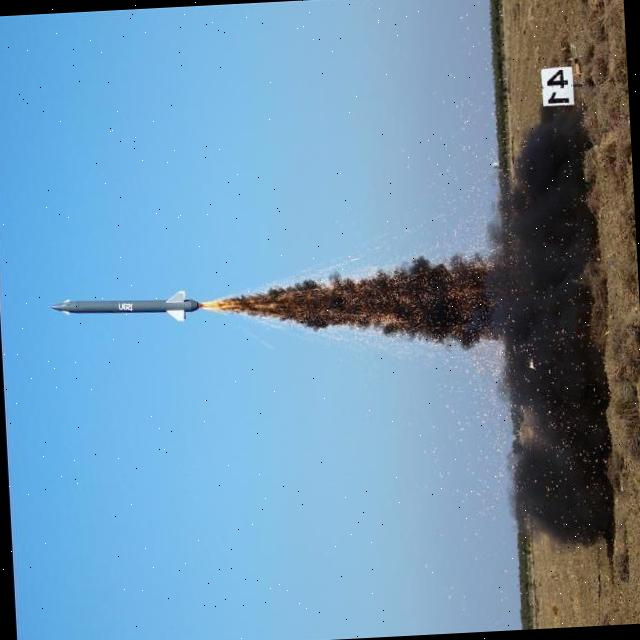missile: (41, 276, 231, 336)
